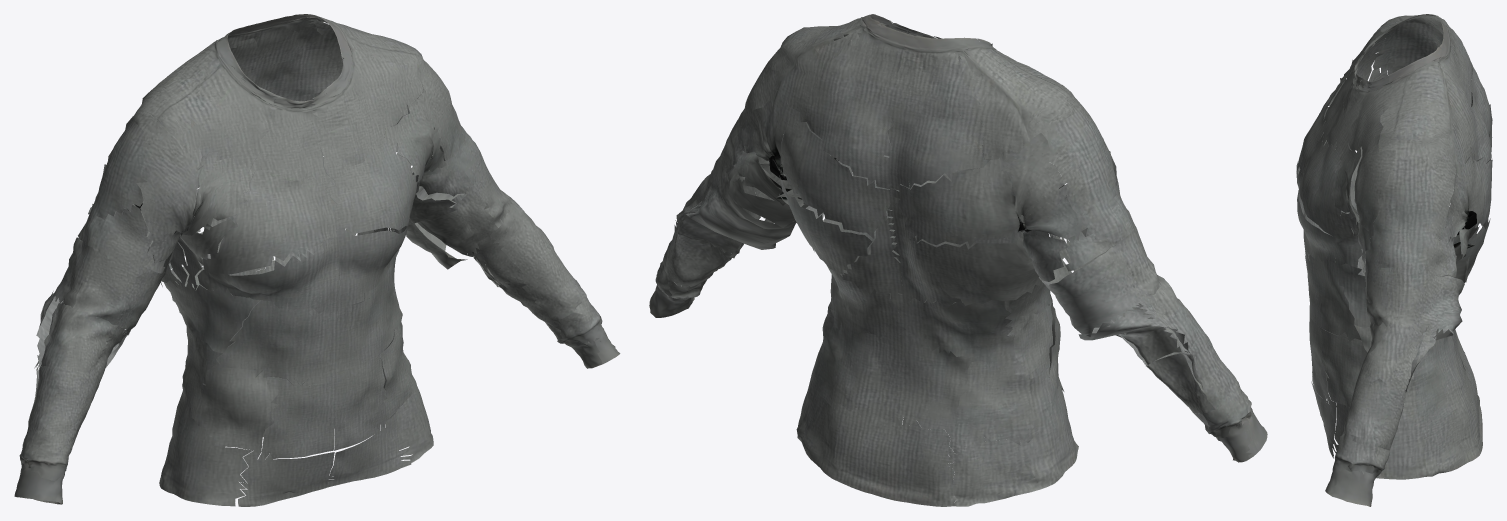
The model's file is dante.glb.
3 views of the same model, side by side, from view 1: azimuth 30°, elevation 25°; view 2: azimuth 150°, elevation 25°; view 3: azimuth 270°, elevation 25° (orthographic). The views are drawn at different scales.
Parts seen in each view (by area): view 1: geometry_0; view 2: geometry_0; view 3: geometry_0.
Part boxes in pixels (left/top/right/bottom): geometry_0: left=14, top=14, right=620, bottom=506; geometry_0: left=649, top=14, right=1267, bottom=506; geometry_0: left=1296, top=14, right=1492, bottom=506.
Bounding box in the file's own units: 0.9648 × 0.68 × 0.3014.
Materials: 1 (1 with a texture image).
